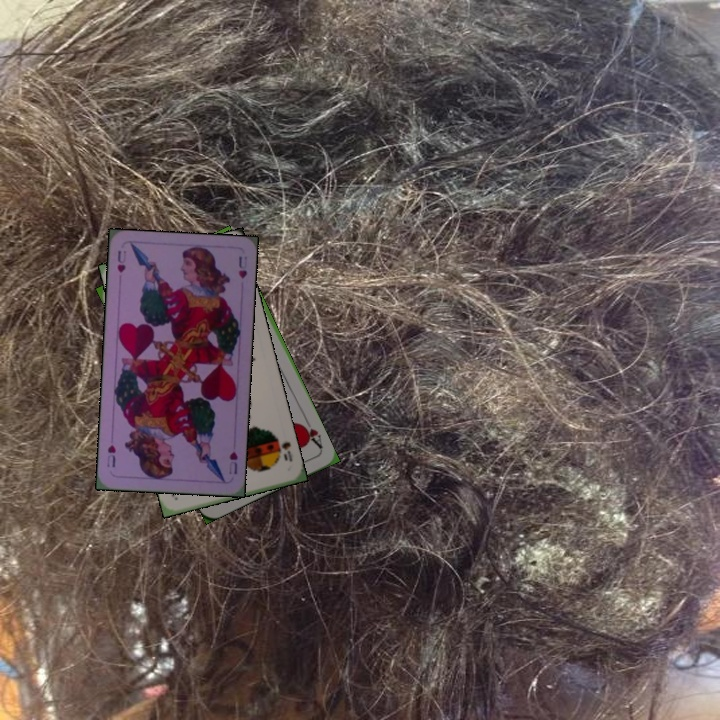HA: (296, 414, 326, 452)
HU: (113, 246, 129, 275), (225, 448, 240, 477)
SO: (277, 438, 295, 464)
